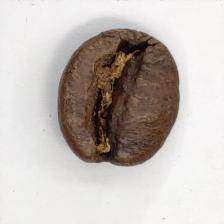NG: (89, 34, 148, 157)
